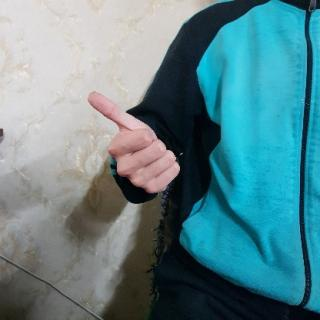ALIF: (84, 86, 182, 196)
